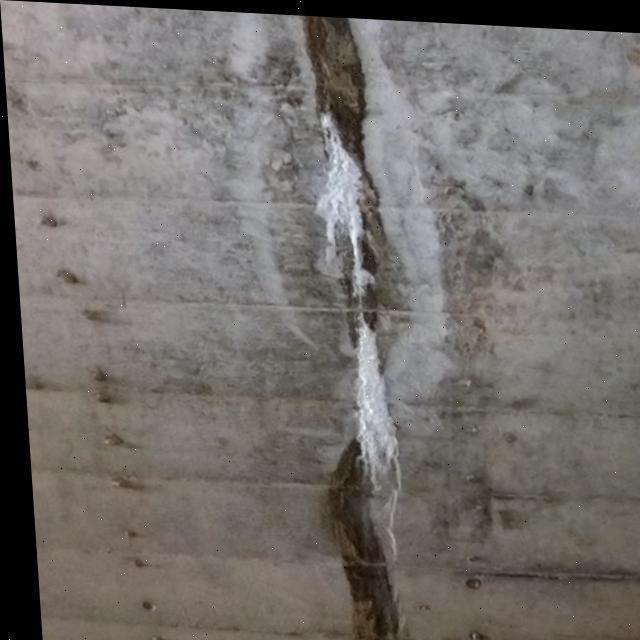D01: (318, 114, 369, 293), (354, 314, 401, 485)
